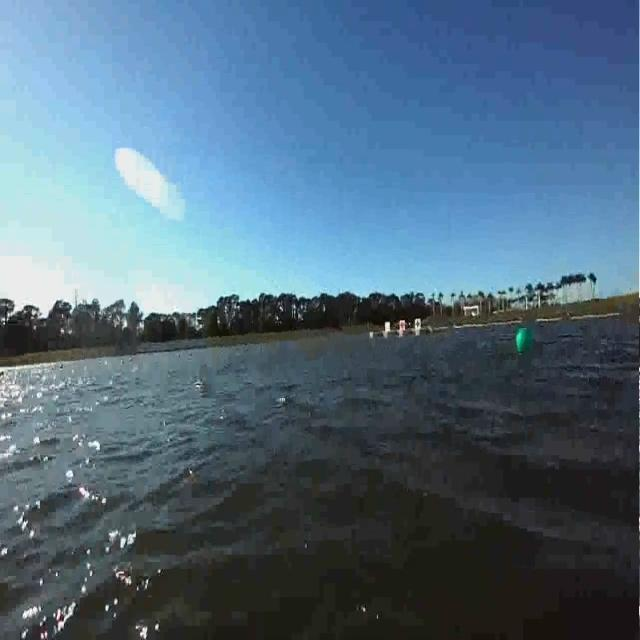green-buoy: (514, 328, 532, 356)
